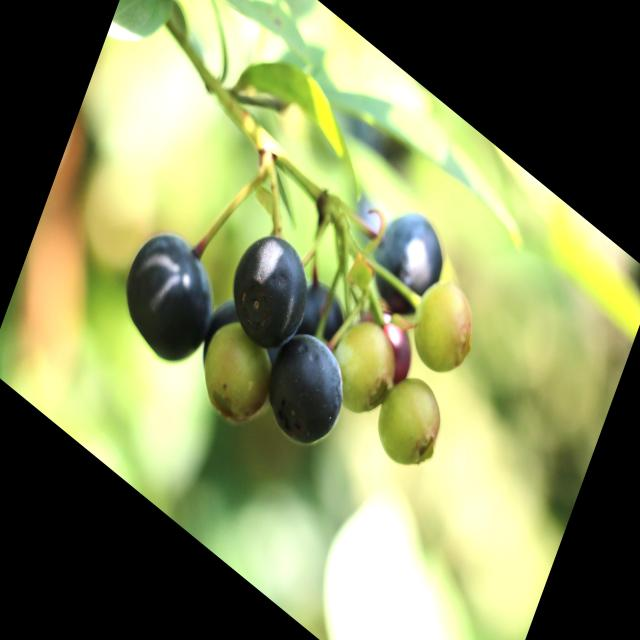blueberry: (113, 212, 226, 376), (222, 216, 319, 364), (260, 317, 356, 465), (363, 192, 454, 332), (343, 297, 419, 405), (280, 267, 350, 378), (197, 288, 255, 386)
blueberry-unripe: (192, 306, 283, 438), (367, 357, 452, 486), (322, 306, 403, 428), (406, 266, 484, 386)
